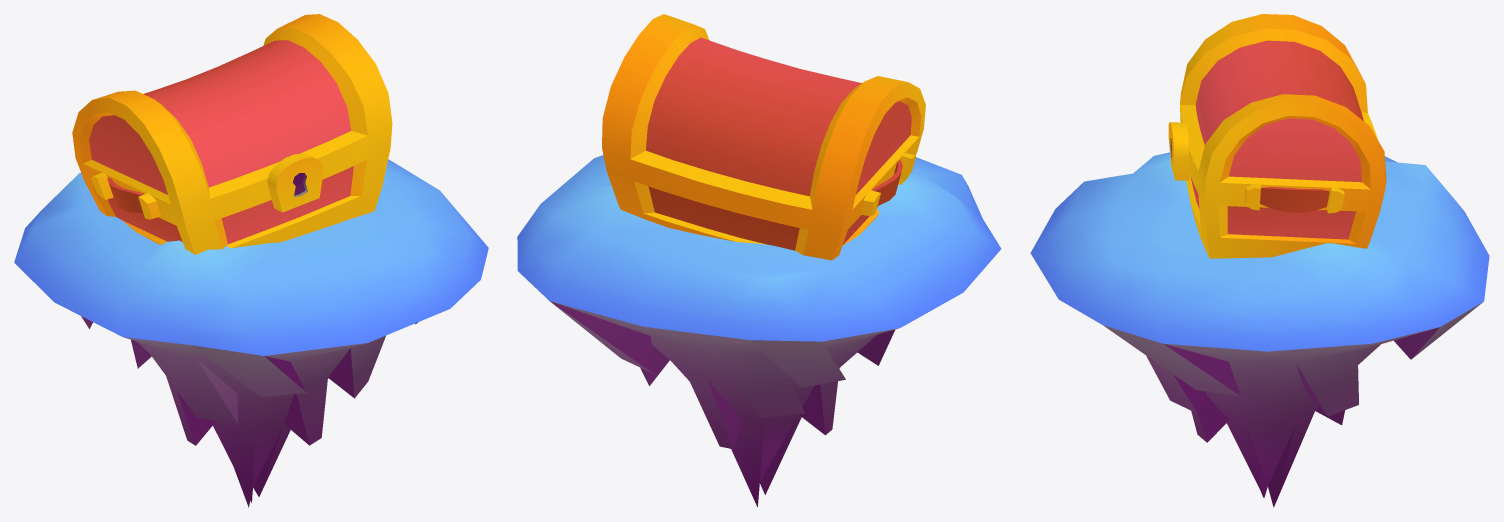
File: obligatory_chest-transformed.glb
3 views of the same model, side by side, from view 1: azimuth 30°, elevation 25°; view 2: azimuth 150°, elevation 25°; view 3: azimuth 270°, elevation 25° (orthographic). The views are drawn at different scales.
Parts seen in each view (by area): view 1: Object_2; view 2: Object_2; view 3: Object_2.
Boxes of the visible parts, x1,y1,x2,y2 form: Object_2: [14, 14, 488, 507]; Object_2: [517, 14, 1001, 507]; Object_2: [1030, 14, 1489, 507].
Size of the model in its own units: 64.62 by 71 by 65.24.
Materials: 1 (1 with a texture image).
